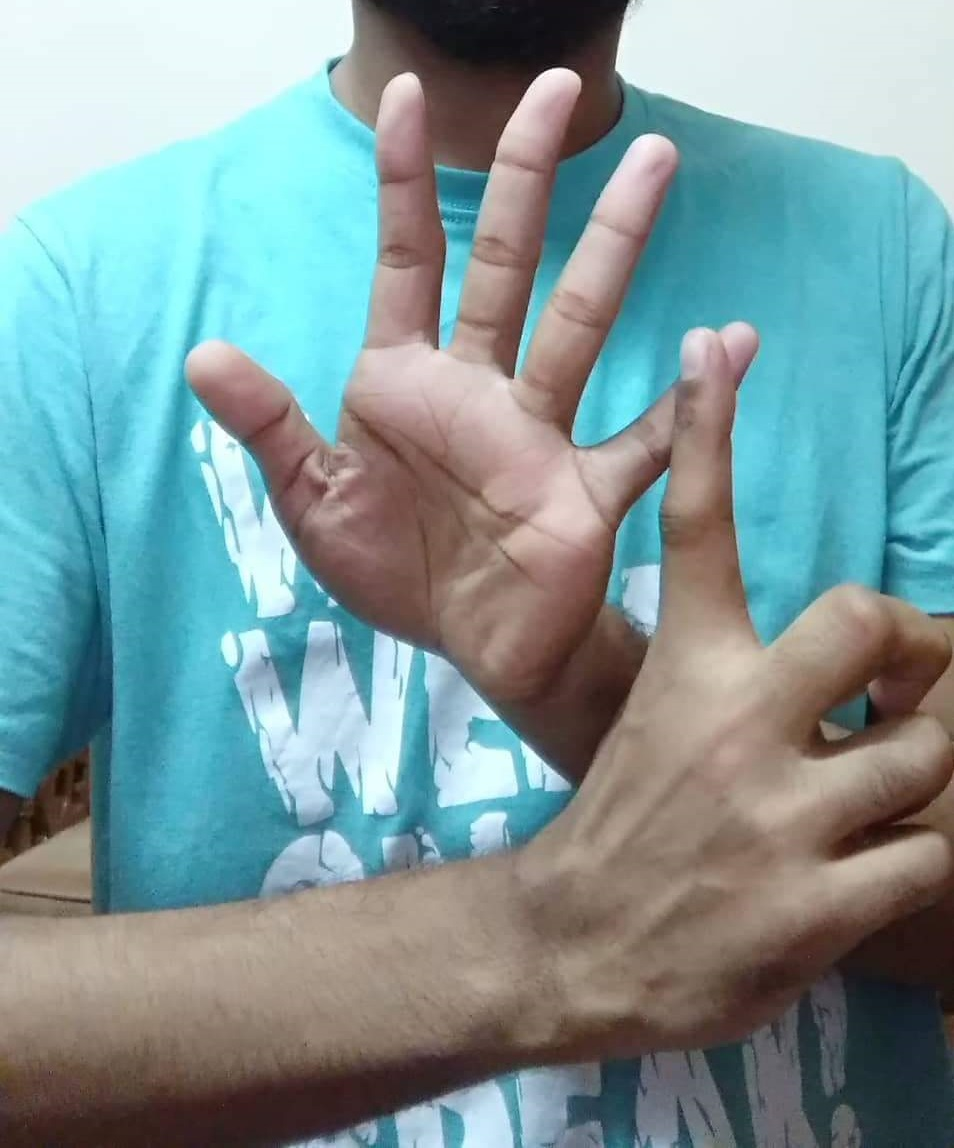i: (189, 65, 954, 979)
